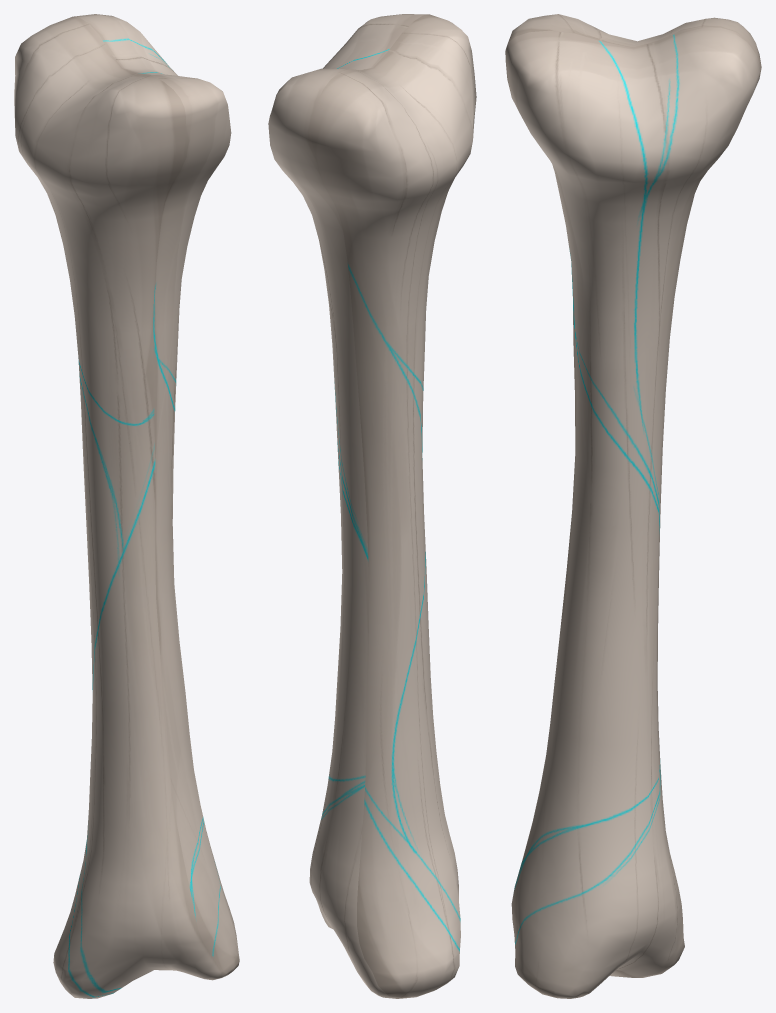
File: Bone.fbx
3 renders of one model, left to right at view 1: azimuth 30°, elevation 25°; view 2: azimuth 150°, elevation 25°; view 3: azimuth 270°, elevation 25°, orthographic. The views are drawn at different scales.
Visible parts, largest first — view 1: Bone; view 2: Bone; view 3: Bone.
Part boxes in pixels (<box>): Bone: <box>14,14,239,998</box>; Bone: <box>268,14,476,998</box>; Bone: <box>505,14,761,998</box>.
Size of the model in its own units: 92.82 by 479 by 116.
